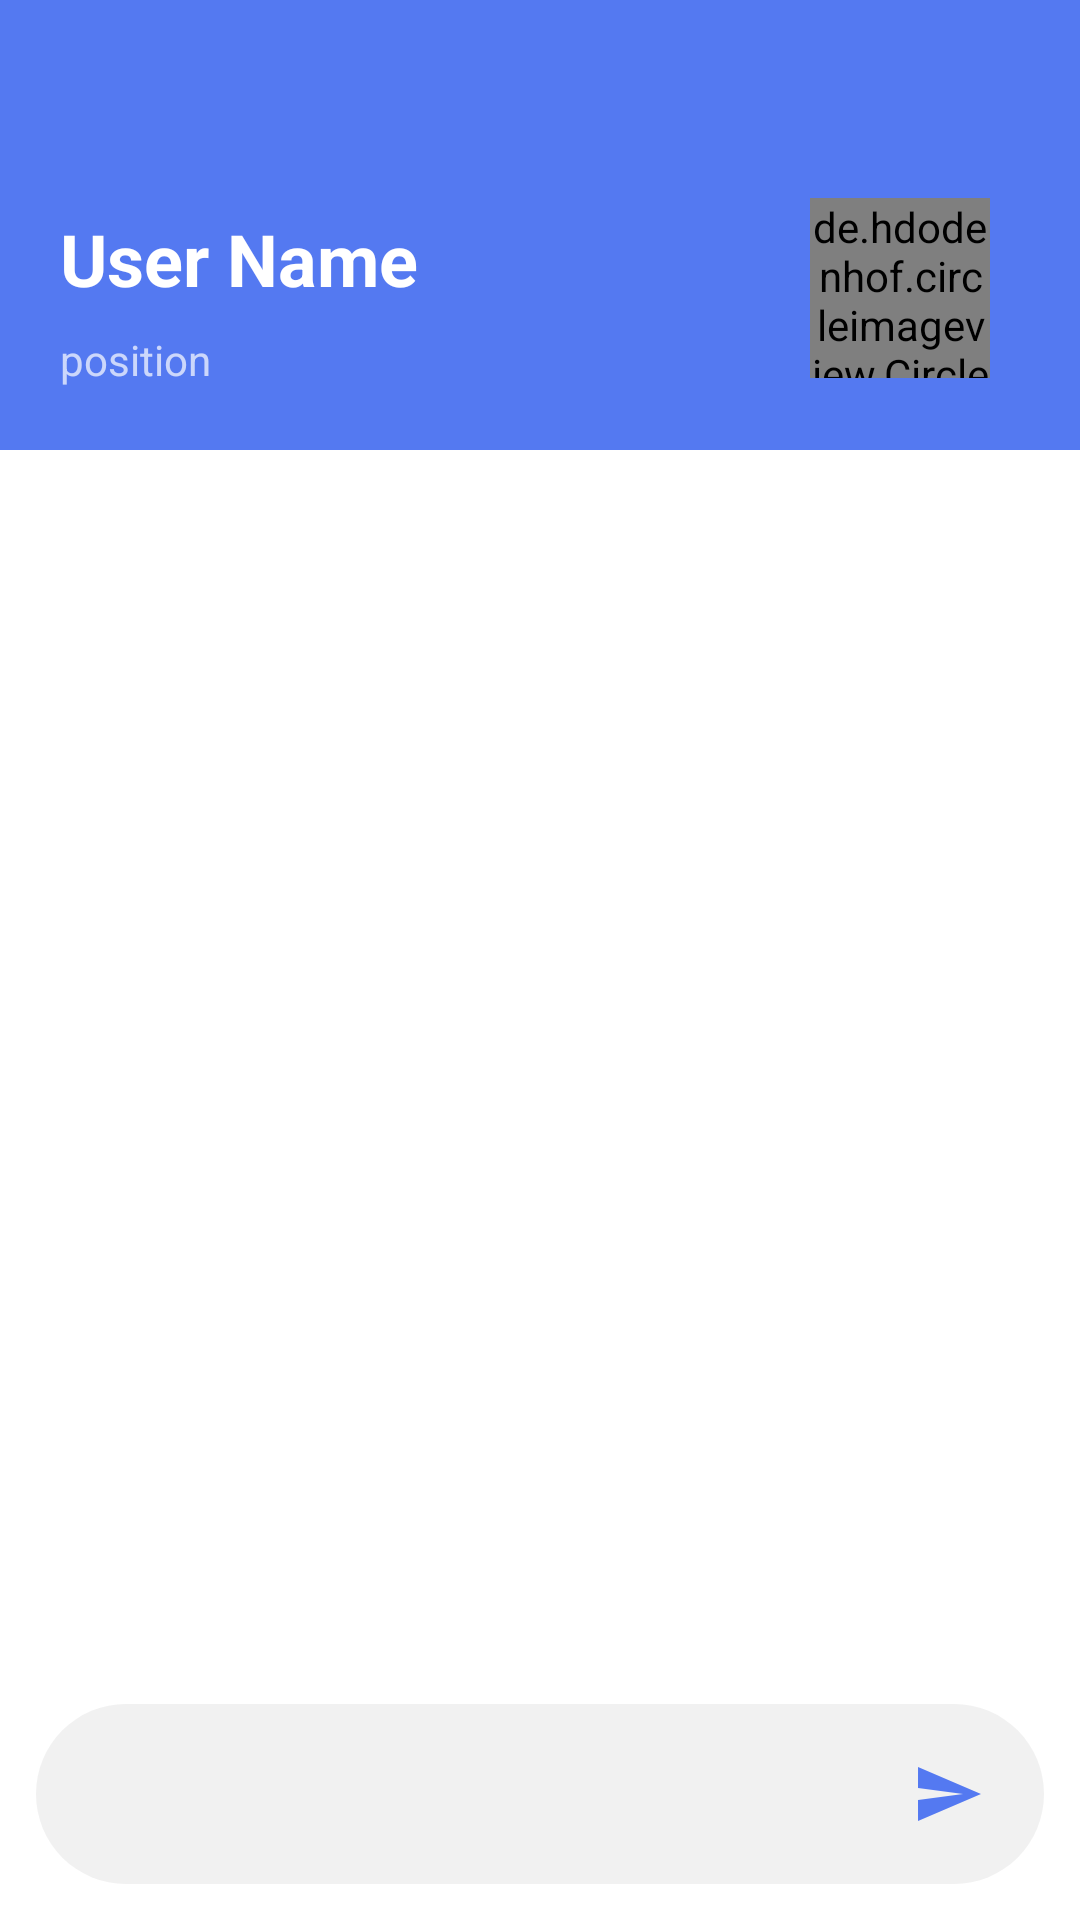

Screen size 1080×1920. Icon name, then its box in pixels as (x1, y1, x2, y2):
send: (918, 1767, 981, 1821)
